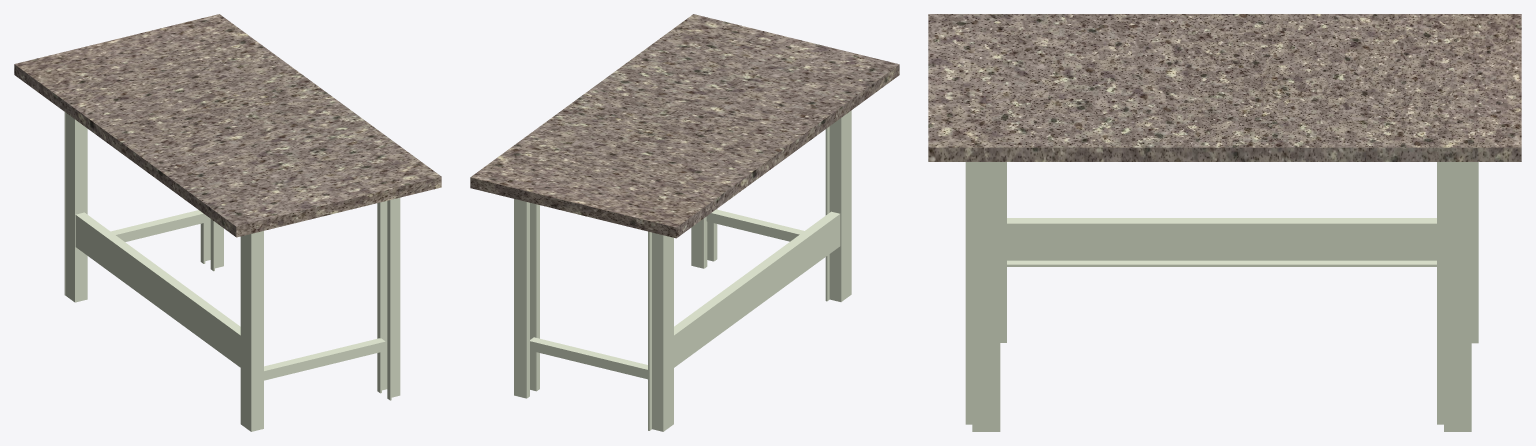
Rendered from PCTable.glb.
3 renders of one model, left to right at view 1: azimuth 30°, elevation 25°; view 2: azimuth 150°, elevation 25°; view 3: azimuth 270°, elevation 25°, orthographic. The views are drawn at different scales.
Visible parts, largest first — view 1: computer_table, pCube15, pCube11_1, pCube14_2, pCube11, pCube11_2, computer_table_leg3, computer_table_leg2, pCube17, pCube16, pCube14_3, computer_table_leg4 (+1 smaller); view 2: computer_table, pCube15, pCube11_3, pCube14, computer_table_leg2, pCube14_1, computer_table_leg3, pCube16, pCube14_3, pCube17, pCube11_2, pCube14_2; view 3: computer_table, pCube15, computer_table_leg5, computer_table_leg4, pCube14_2, pCube14_3, pCube14, pCube14_1, pCube11_2.
Part boxes in pixels (<box>): computer_table: <box>14,14,441,237</box>; pCube15: <box>75,212,240,367</box>; pCube11_1: <box>250,231,263,431</box>; pCube14_2: <box>387,198,398,400</box>; pCube11: <box>74,119,87,302</box>; pCube11_2: <box>377,201,387,393</box>; computer_table_leg3: <box>241,234,250,431</box>; computer_table_leg2: <box>65,112,74,301</box>; pCube17: <box>264,338,385,380</box>; pCube16: <box>111,210,209,241</box>; pCube14_3: <box>210,219,223,271</box>; computer_table_leg4: <box>398,197,400,395</box>; computer_table: <box>470,14,899,238</box>; pCube15: <box>674,211,840,367</box>; pCube11_3: <box>514,199,529,398</box>; pCube14: <box>648,231,663,431</box>; computer_table_leg2: <box>661,235,673,431</box>; pCube14_1: <box>825,118,841,301</box>; computer_table_leg3: <box>839,111,850,301</box>; pCube16: <box>530,337,647,379</box>; pCube14_3: <box>530,203,539,391</box>; pCube17: <box>706,209,804,241</box>; pCube11_2: <box>691,216,707,268</box>; pCube14_2: <box>707,209,717,261</box>; computer_table: <box>928,14,1521,161</box>; pCube15: <box>1007,218,1436,266</box>; computer_table_leg5: <box>1445,162,1470,431</box>; computer_table_leg4: <box>974,162,998,431</box>; pCube14_2: <box>965,162,973,431</box>; pCube14_3: <box>1437,162,1445,431</box>; pCube14: <box>1471,162,1478,343</box>; pCube14_1: <box>1000,162,1006,342</box>; pCube11_2: <box>998,162,1000,431</box>.
Size of the model in its own units: 0.8 by 0.8374 by 1.5.
2 materials, 1 textured.
